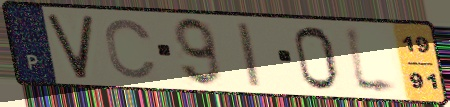0: (291, 24, 342, 92)
9: (172, 16, 225, 89)
C: (102, 16, 159, 81)
I: (233, 21, 264, 88)
L: (341, 23, 404, 99)
V: (44, 13, 96, 81)
